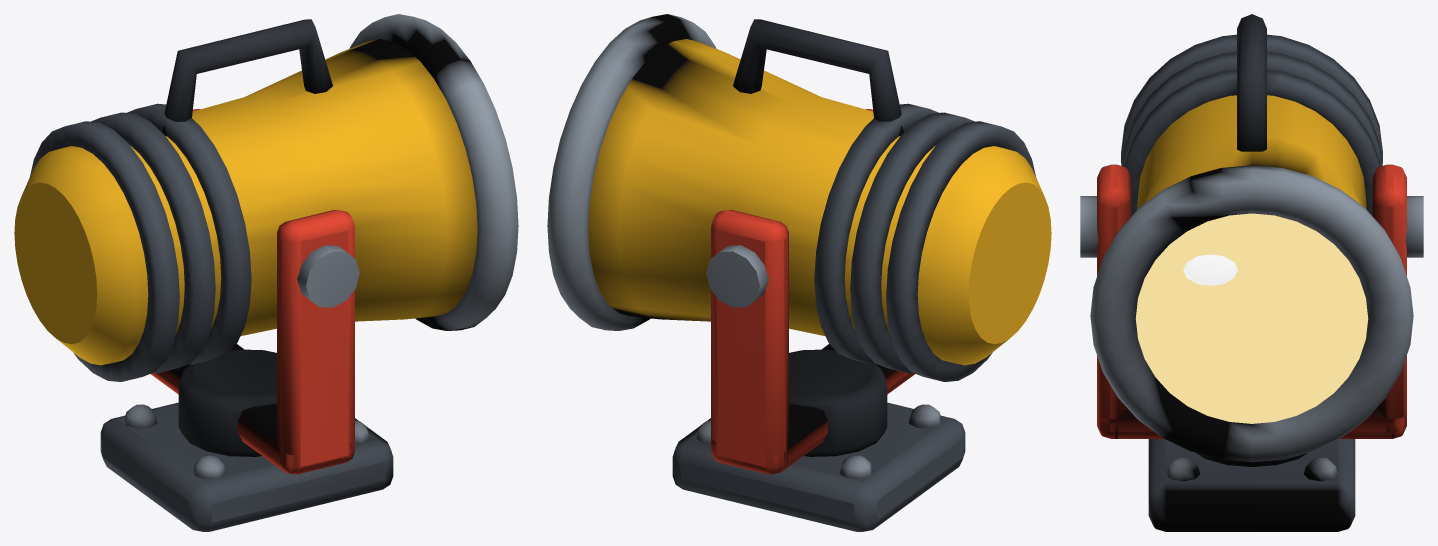
Rendered from part_spotlight.glb.
3 renders of one model, left to right at view 1: azimuth 30°, elevation 25°; view 2: azimuth 150°, elevation 25°; view 3: azimuth 270°, elevation 25°, orthographic.
Visible parts, largest first — view 1: spotlight_head_mesh, spotlight_yoke; view 2: spotlight_head_mesh, spotlight_yoke; view 3: spotlight_head_mesh, spotlight_yoke.
Boxes of the visible parts, x1,y1,x2,y2 form: spotlight_head_mesh: (14, 14, 518, 381); spotlight_yoke: (100, 109, 393, 531); spotlight_head_mesh: (547, 14, 1051, 381); spotlight_yoke: (672, 109, 965, 531); spotlight_head_mesh: (1090, 14, 1413, 462); spotlight_yoke: (1080, 164, 1423, 531).
Size of the model in its own units: 0.6546 by 0.7104 by 0.498.
